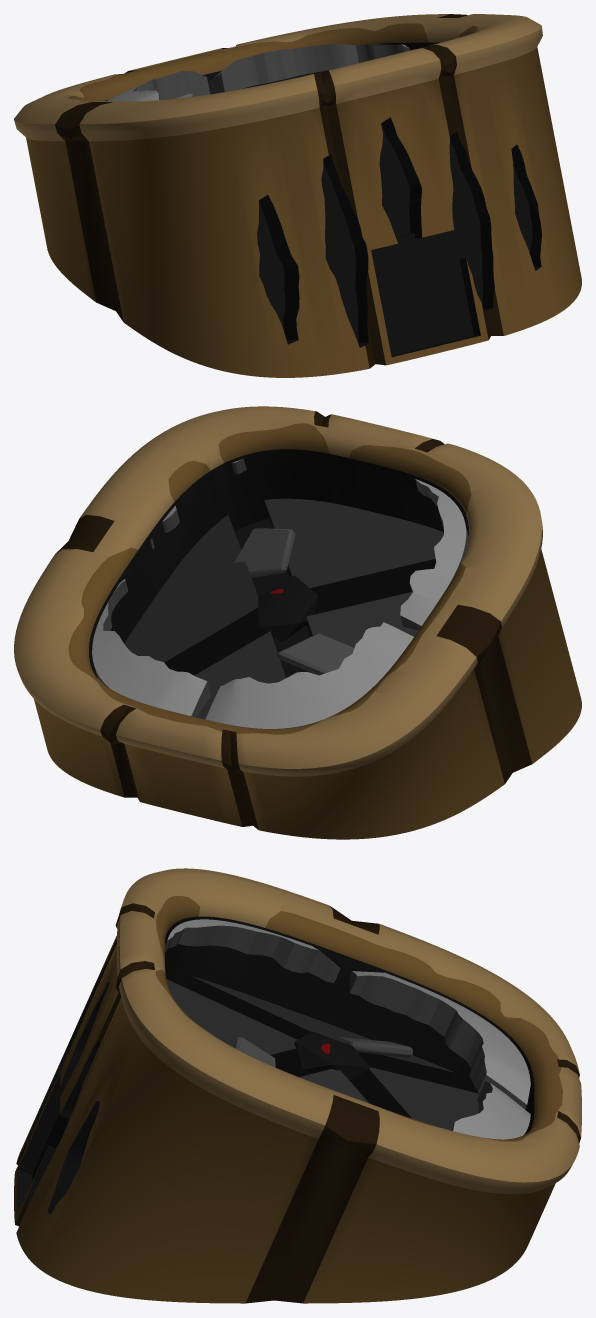
The model's file is eye_tub_wreck.glb.
3 views of the same model, one above another, from view 1: azimuth 30°, elevation 25°; view 2: azimuth 150°, elevation 25°; view 3: azimuth 270°, elevation 25° (orthographic). The views are drawn at different scales.
Parts seen in each view (by area): view 1: tub, window_back, petal0, petal1; view 2: tub, housing3, housing2, petal1, petal0, petal2, housing0, housing1, eye_lump, fallen1, fallen0; view 3: tub, petal1, housing0, petal2, housing1, housing3, petal0, eye_lump, housing2, fallen0, window_back.
Boxes of the visible parts, x1=… form: tub: x1=14, y1=14, x2=581, y2=377; window_back: x1=371, y1=223, x2=473, y2=351; petal0: x1=208, y1=44, x2=409, y2=93; petal1: x1=107, y1=71, x2=209, y2=101; tub: x1=14, y1=406, x2=581, y2=839; housing3: x1=264, y1=498, x2=443, y2=636; housing2: x1=124, y1=515, x2=267, y2=675; petal1: x1=205, y1=622, x2=413, y2=728; petal0: x1=92, y1=579, x2=210, y2=717; petal2: x1=400, y1=479, x2=468, y2=630; housing0: x1=306, y1=592, x2=418, y2=647; housing1: x1=194, y1=631, x2=285, y2=719; eye_lump: x1=258, y1=575, x2=318, y2=642; fallen1: x1=234, y1=528, x2=295, y2=577; fallen0: x1=277, y1=633, x2=354, y2=675; tub: x1=14, y1=868, x2=581, y2=1303; petal1: x1=350, y1=971, x2=530, y2=1109; housing0: x1=185, y1=976, x2=455, y2=1088; petal2: x1=165, y1=919, x2=340, y2=982; housing1: x1=356, y1=1067, x2=479, y2=1130; housing3: x1=166, y1=979, x2=299, y2=1075; petal0: x1=451, y1=1081, x2=530, y2=1139; eye_lump: x1=294, y1=1031, x2=370, y2=1080; housing2: x1=299, y1=1069, x2=369, y2=1103; fallen0: x1=340, y1=1037, x2=412, y2=1057; window_back: x1=33, y1=1111, x2=69, y2=1179.
Size of the model in its own units: 21.26 by 11.98 by 23.54.
